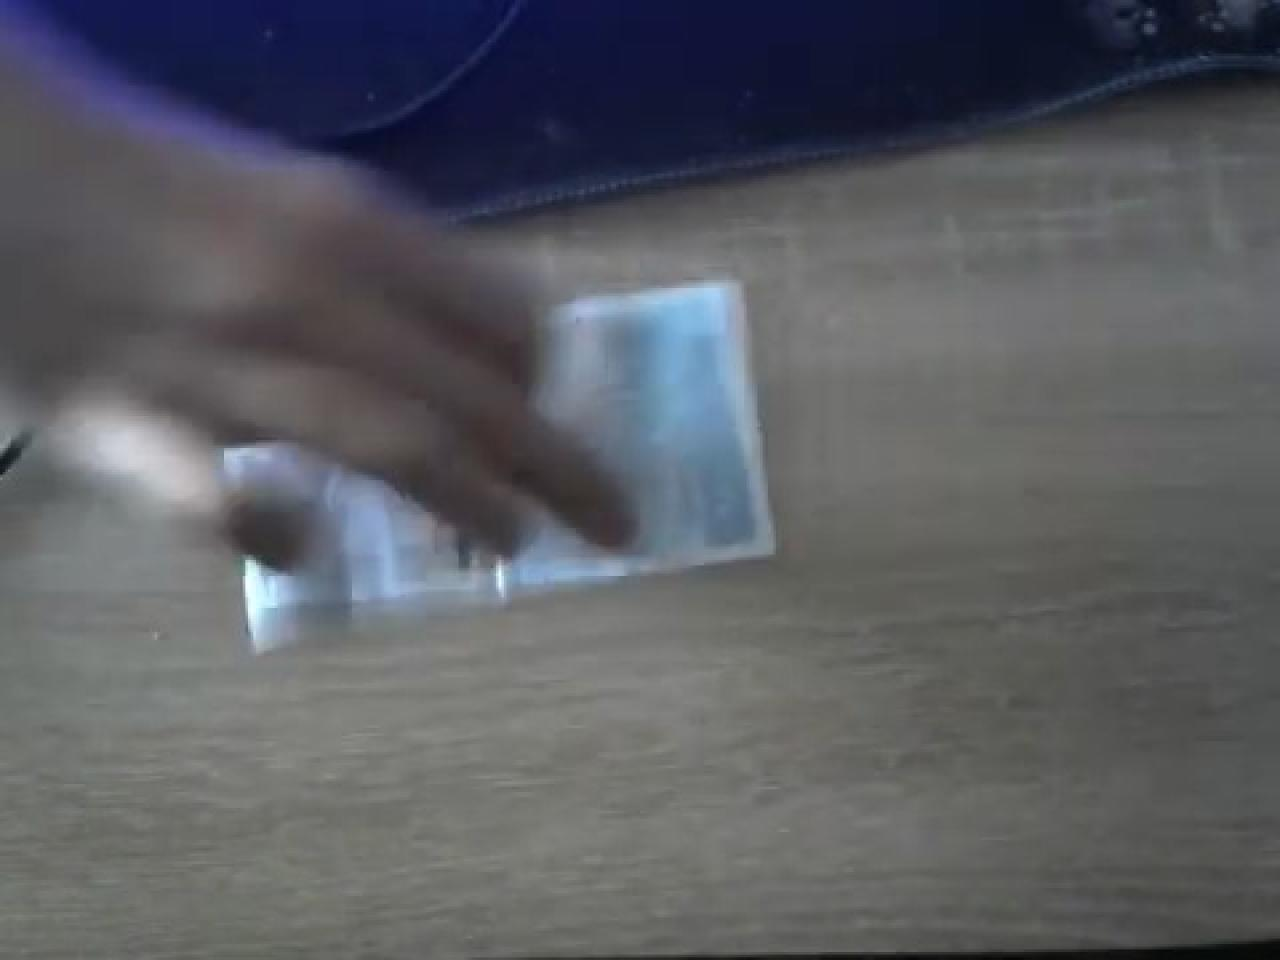20leva: (227, 280, 779, 645)
